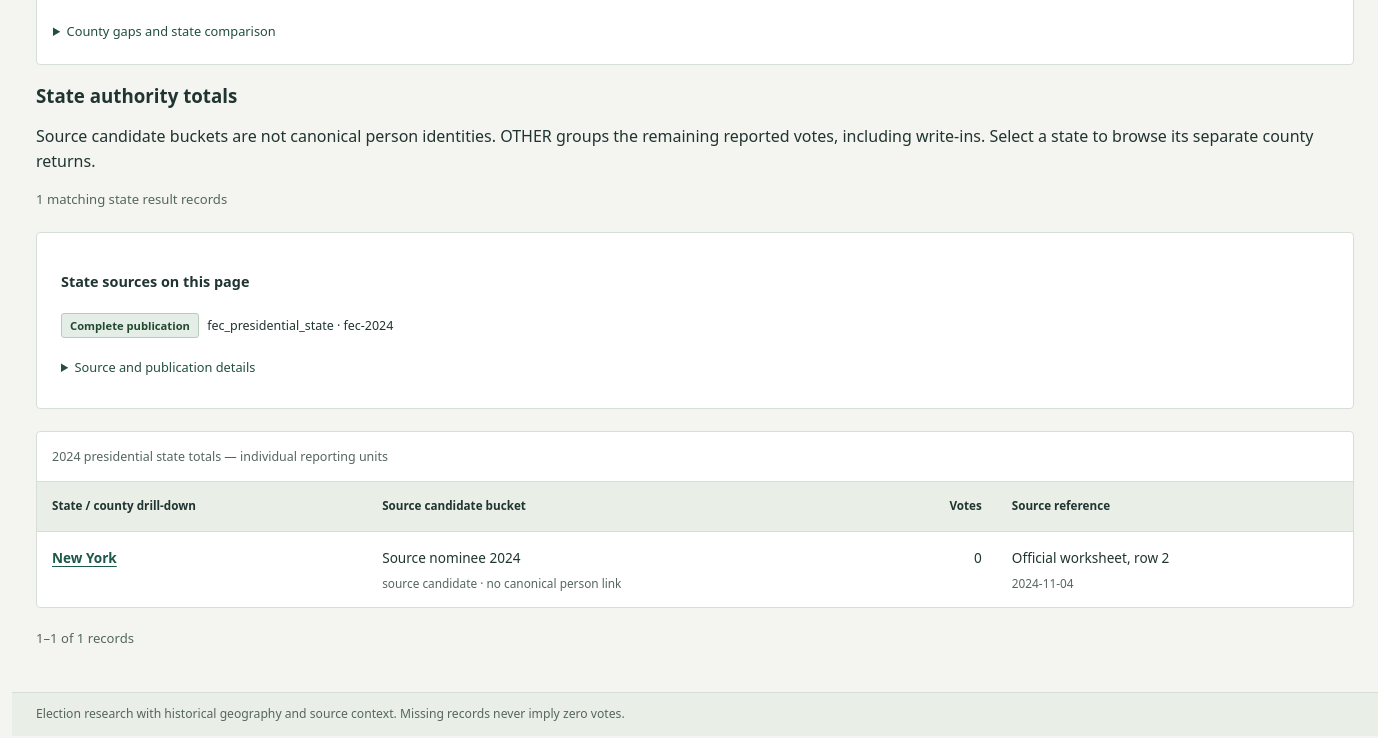
Test: presidential coverage, sources and missing data › displays source versions and partial coverage, keeps zero distinct from missing, and preserves signed differences
This screenshot has width=1378, height=738.
(page scrolled)
Expected: the text "Source nominee 2024" is shown, [382,548,521,566]
Expected: the text "0" is shown, [878,531,997,607]
What coordinates should you click on to do the following:
click the heading "Source and publication details"
I would click on:
 (165, 367)
Its box is [74,358,255,376].
(page scrolled)
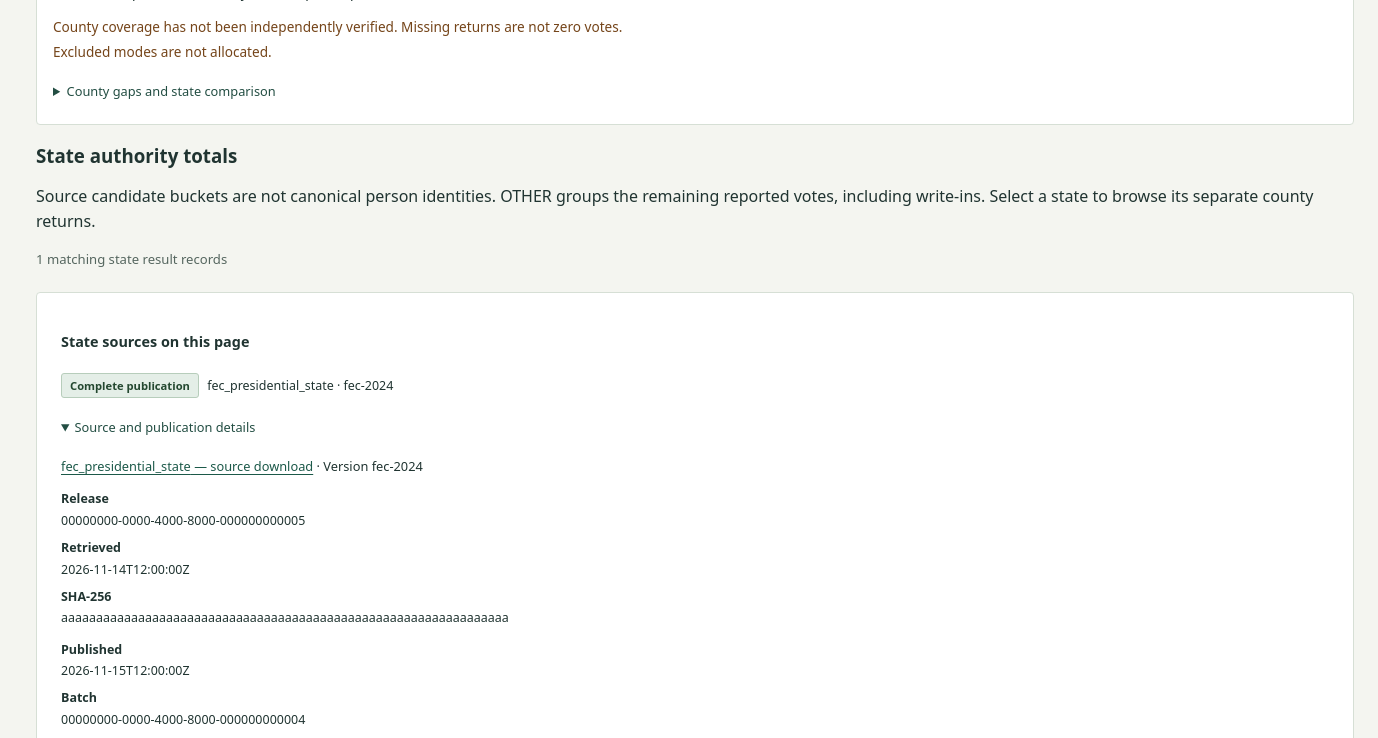
Expected: the text "fec_presidential_state — source download · Version fec-2024" is shown, [61,457,423,475]
What coordinates should you click on to do the following:
click the heading "County gaps and state comparison"
I would click on:
 (171, 91)
Its box is [66,82,276,100].
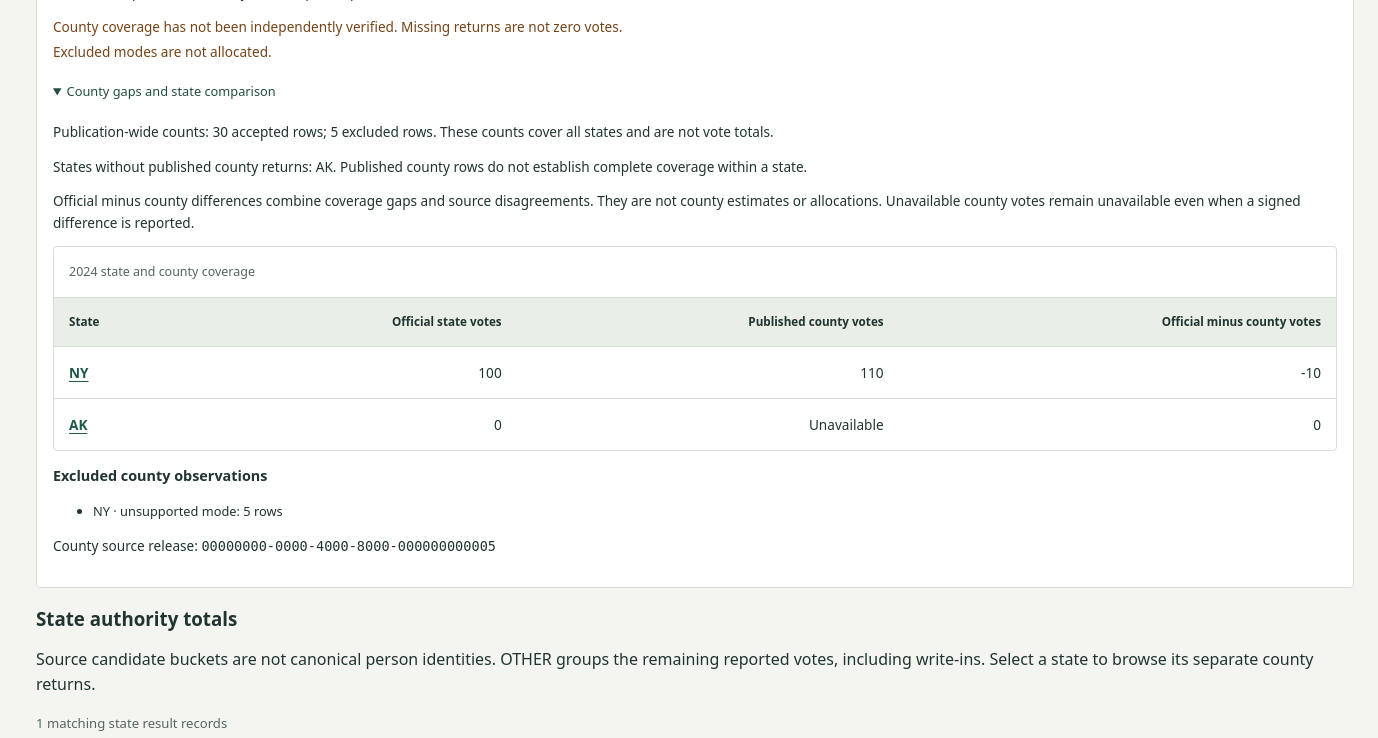
Expected: the text "Unavailable" is shown, [517,398,899,450]
Expected: the text "-10" is shown, [899,346,1336,398]
Expected: the list item "NY · unsupported mode: 5 rows" is shown, [93,502,283,520]
